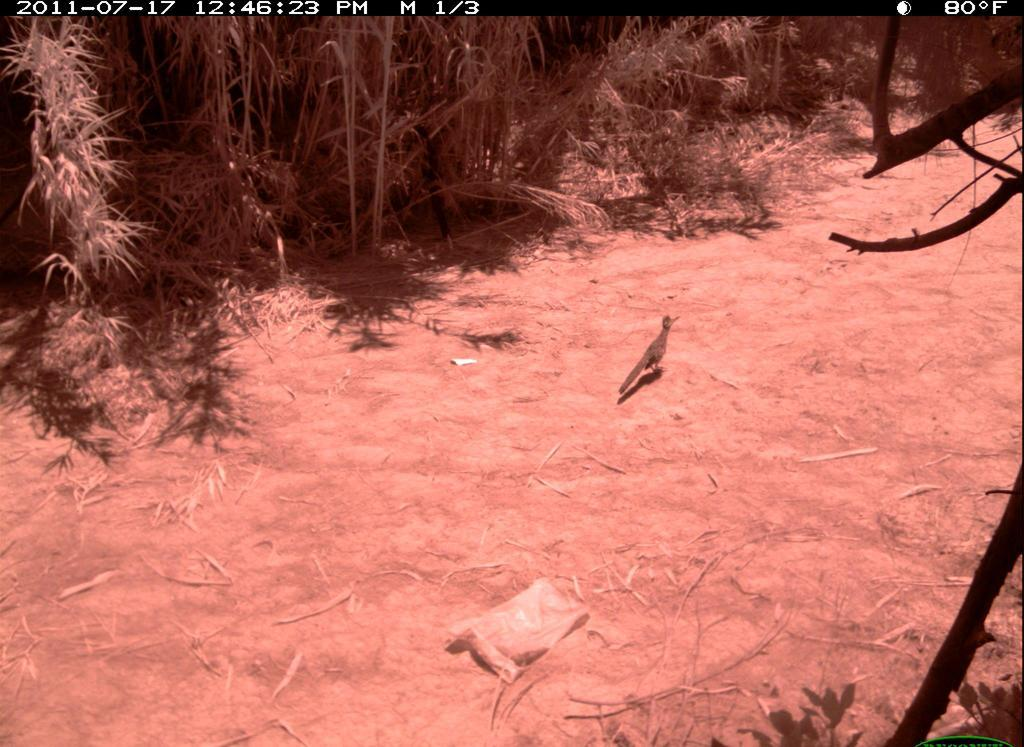bird: (618, 313, 688, 401)
